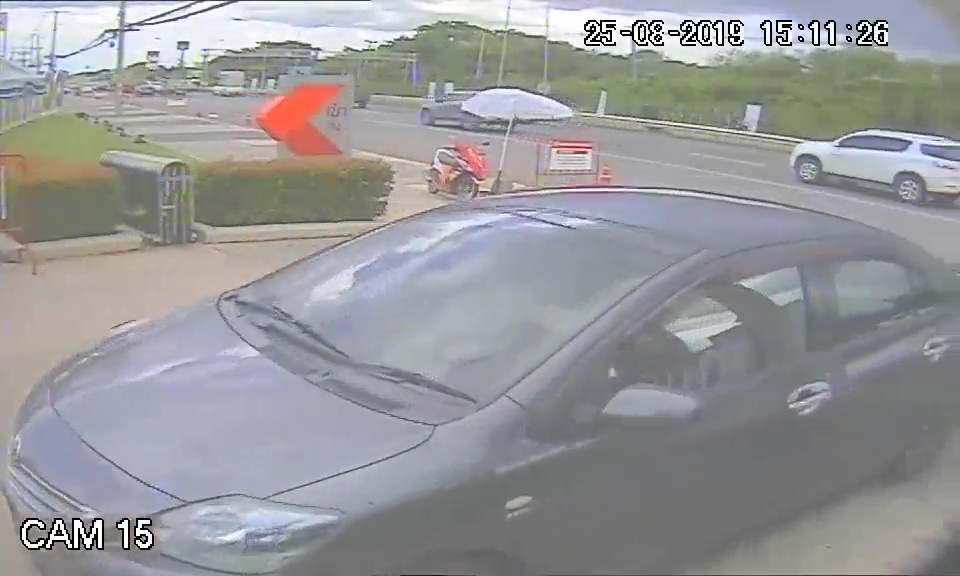sedan: (20, 188, 769, 565)
